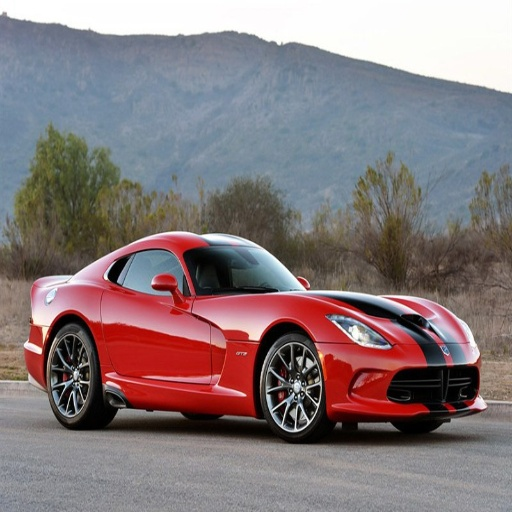front_bumper: (322, 343, 464, 419)
front_glass: (223, 247, 298, 291)
front_left_door: (114, 266, 210, 384)
front_right_light: (330, 311, 391, 348)
